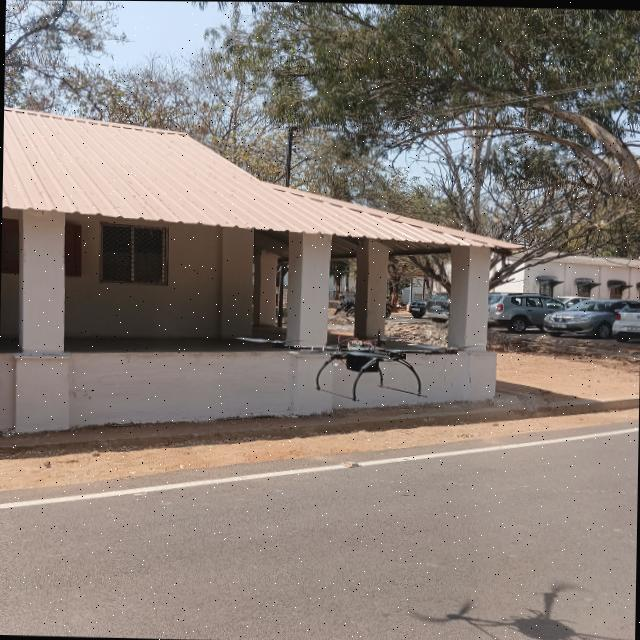drone: (228, 317, 481, 410)
